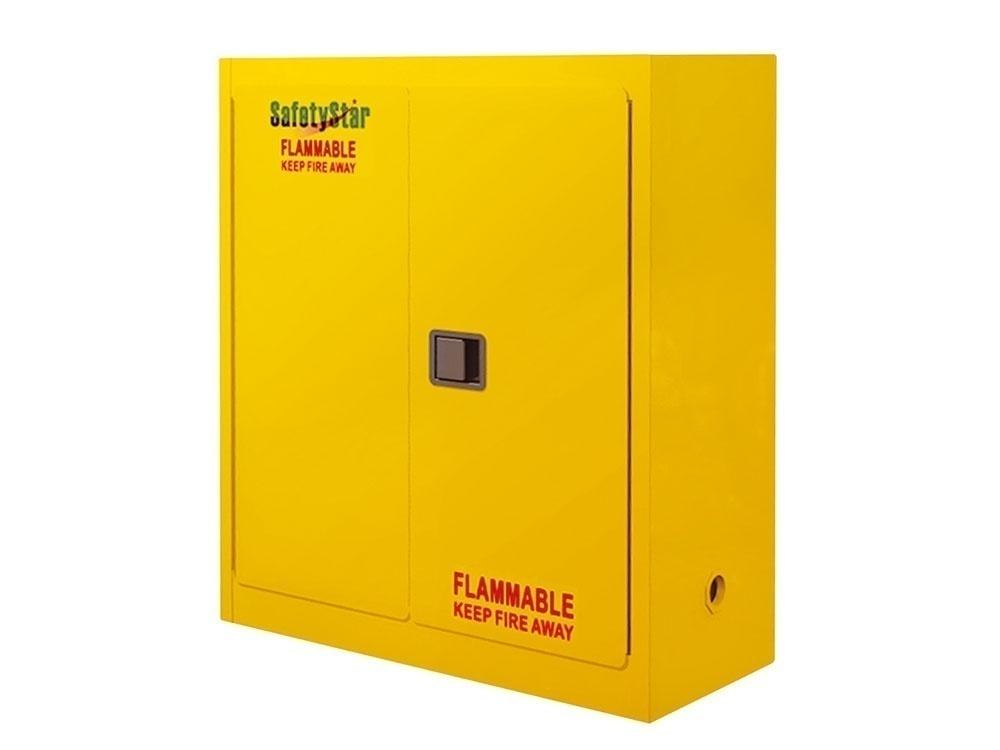cabinet_door: (409, 74, 626, 658)
handle: (428, 330, 486, 388)
